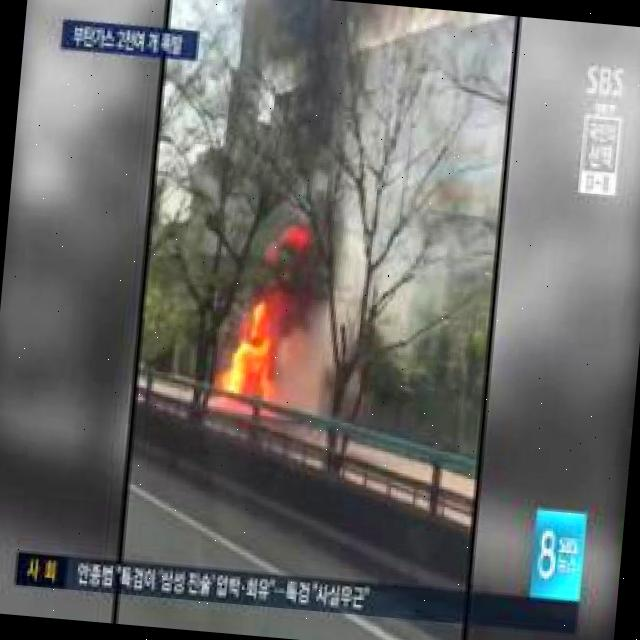fire: (208, 284, 294, 403)
